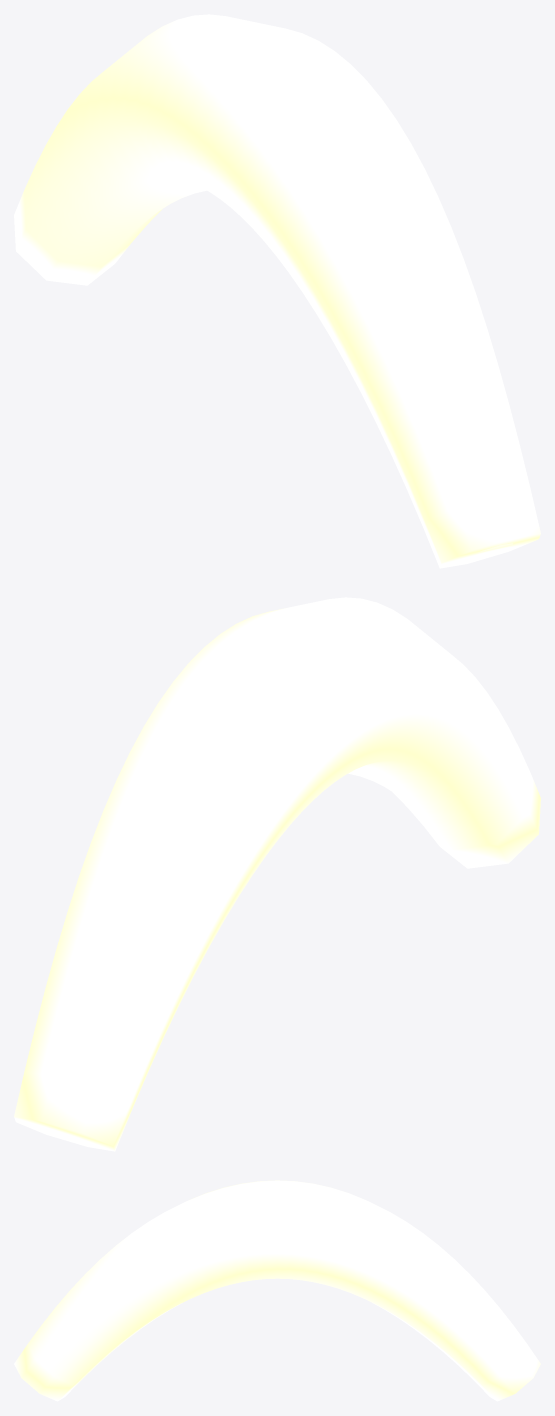
Rendered from light_beam.glb.
The picture shows the model from 3 angles, top to bottom: view 1: azimuth 30°, elevation 25°; view 2: azimuth 150°, elevation 25°; view 3: azimuth 270°, elevation 25°; orthographic projection. The views are drawn at different scales.
Parts seen in each view (by area): view 1: Halo; view 2: Halo; view 3: Halo.
Part boxes in pixels (x1=…): Halo: x1=14, y1=14, x2=540, y2=568; Halo: x1=14, y1=597, x2=540, y2=1151; Halo: x1=14, y1=1180, x2=540, y2=1401.
Bounding box in the file's own units: 0.22 × 0.4984 × 1.11.
